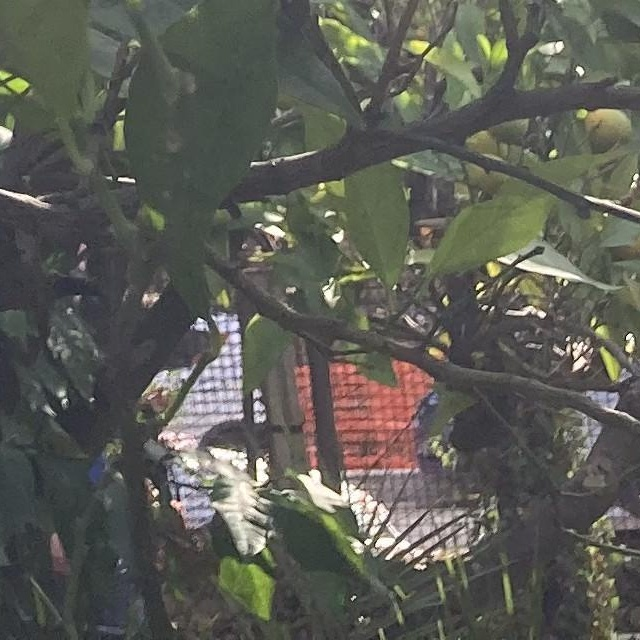orange: (584, 106, 630, 146), (488, 115, 534, 141), (463, 129, 499, 157)
